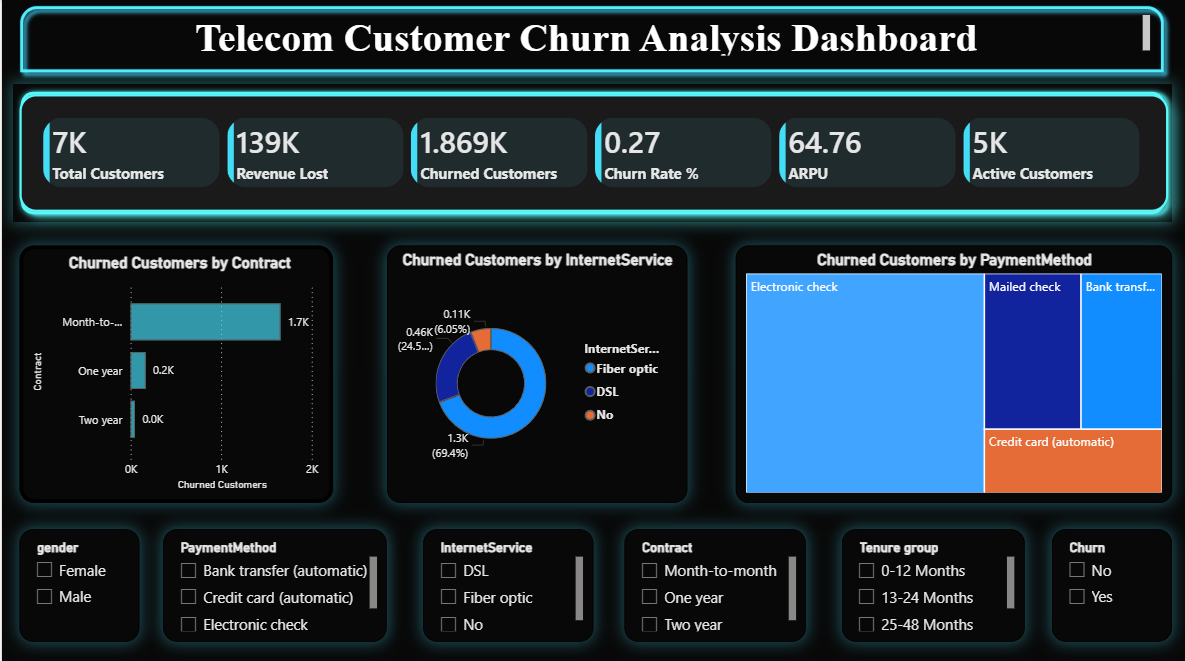

The dashboard page shown, as its layout file describes it:
{"tool":"powerbi","page":{"name":"Page 1","canvas":[1280,720],"ordinal":0},"visuals":[{"type":"shape","box":[10.8,0,1254.6,89.2],"z":0},{"type":"textbox","box":[26.1,13.7,1221.3,53.5],"z":1000},{"type":"shape","box":[12,93,1253.2,148.7],"z":2000},{"type":"cardVisual","fields":{"Data":["Telecom.Total Customers","Telecom.Revenue Lost","Telecom.Churned Customers","Telecom.Churn Rate %","Telecom.ARPU","Telecom.Active Customers"]},"box":[18.9,104.1,1242.4,127.1],"z":3000},{"type":"clusteredBarChart","fields":{"Y":["Telecom.Churned Customers"],"Category":["Telecom.Contract"]},"box":[18.9,267.7,339.3,278.5],"z":4000},{"type":"donutChart","fields":{"Category":["Telecom.InternetService"],"Y":["Telecom.Churned Customers"]},"box":[416.4,267.7,324.5,278.5],"z":5000},{"type":"treemap","fields":{"Values":["Telecom.Churned Customers"],"Group":["Telecom.PaymentMethod"]},"box":[793.6,267.7,471.8,278.5],"z":6000},{"type":"slicer","fields":{"Values":["Telecom.gender"]},"box":[18.9,574.6,129.8,121.7],"z":7000},{"type":"slicer","fields":{"Values":["Telecom.PaymentMethod"]},"box":[174.4,574.6,242,121.7],"z":8000},{"type":"slicer","fields":{"Values":["Telecom.InternetService"]},"box":[455.6,574.6,183.9,121.7],"z":9000},{"type":"slicer","fields":{"Values":["Telecom.Contract"]},"box":[673.3,574.6,196,121.7],"z":10000},{"type":"slicer","fields":{"Values":["Telecom.Tenure group"]},"box":[908.5,574.6,197.4,121.7],"z":11000},{"type":"slicer","fields":{"Values":["Telecom.Churn"]},"box":[1135.6,574.6,129.8,121.7],"z":12000}]}

Visuals, with their boxes in screenshot pixels (x1, y1, x2, y2), scaled from the page's 1280x720 canvas onto the 1185x661 screenshot:
shape: 10,0,1171,82
textbox: 24,13,1155,62
shape: 11,85,1171,222
cardVisual - Telecom.Total Customers x Telecom.Revenue Lost: 17,96,1168,212
clusteredBarChart - Telecom.Churned Customers x Telecom.Contract: 17,246,332,501
donutChart - Telecom.InternetService x Telecom.Churned Customers: 385,246,686,501
treemap - Telecom.Churned Customers x Telecom.PaymentMethod: 735,246,1171,501
slicer - Telecom.gender: 17,528,138,639
slicer - Telecom.PaymentMethod: 161,528,385,639
slicer - Telecom.InternetService: 422,528,592,639
slicer - Telecom.Contract: 623,528,805,639
slicer - Telecom.Tenure group: 841,528,1024,639
slicer - Telecom.Churn: 1051,528,1171,639
